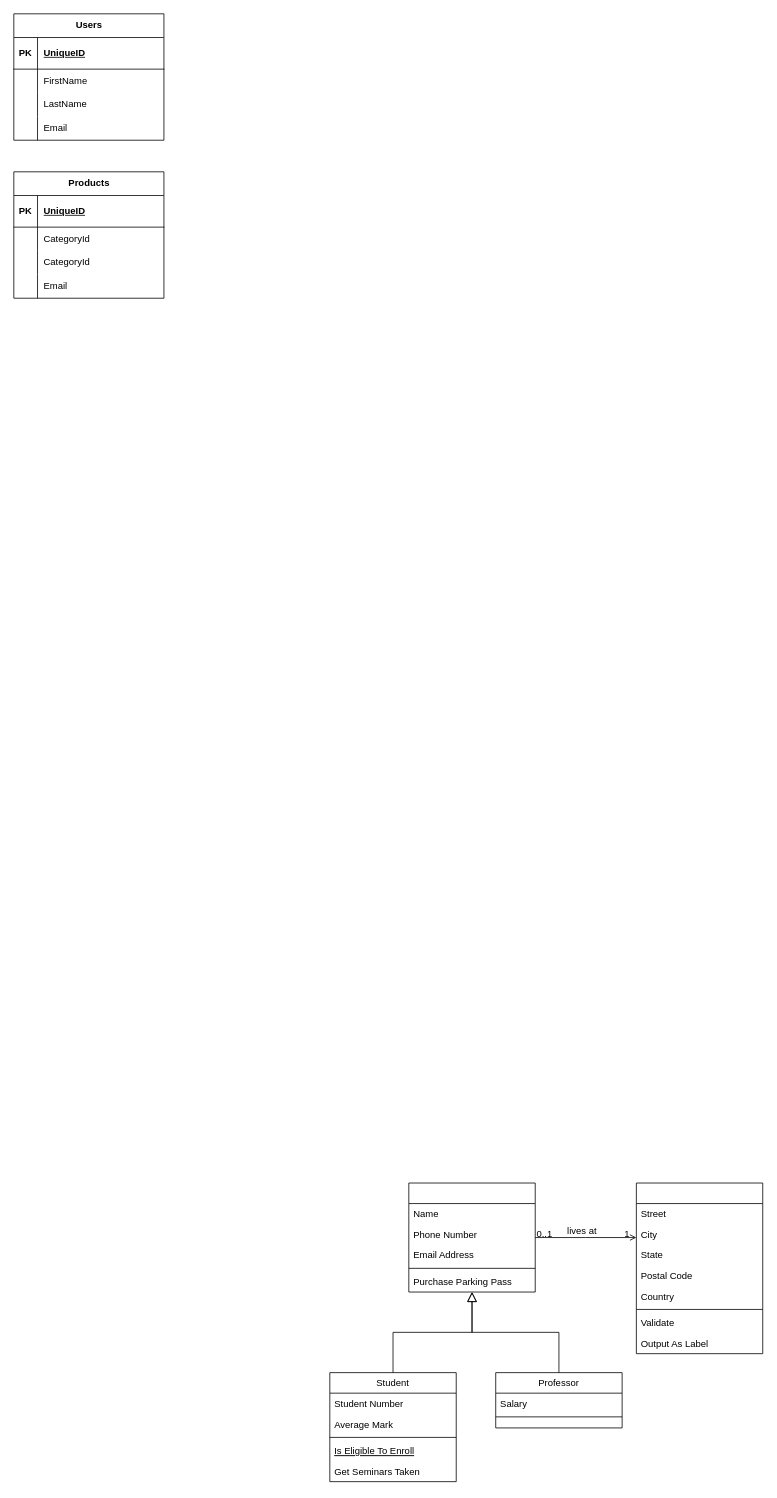
The diagram is 777 pixels wide and 1498 high, and some of its shapes have lost their labels. Here are the shapes that lost their labels. From the top down, the box of each, then its label:
(408, 1182, 535, 1292): Person
(636, 1182, 763, 1354): Address
